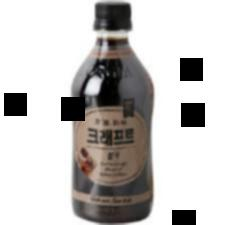georgiacraft_black: (60, 2, 164, 224)
